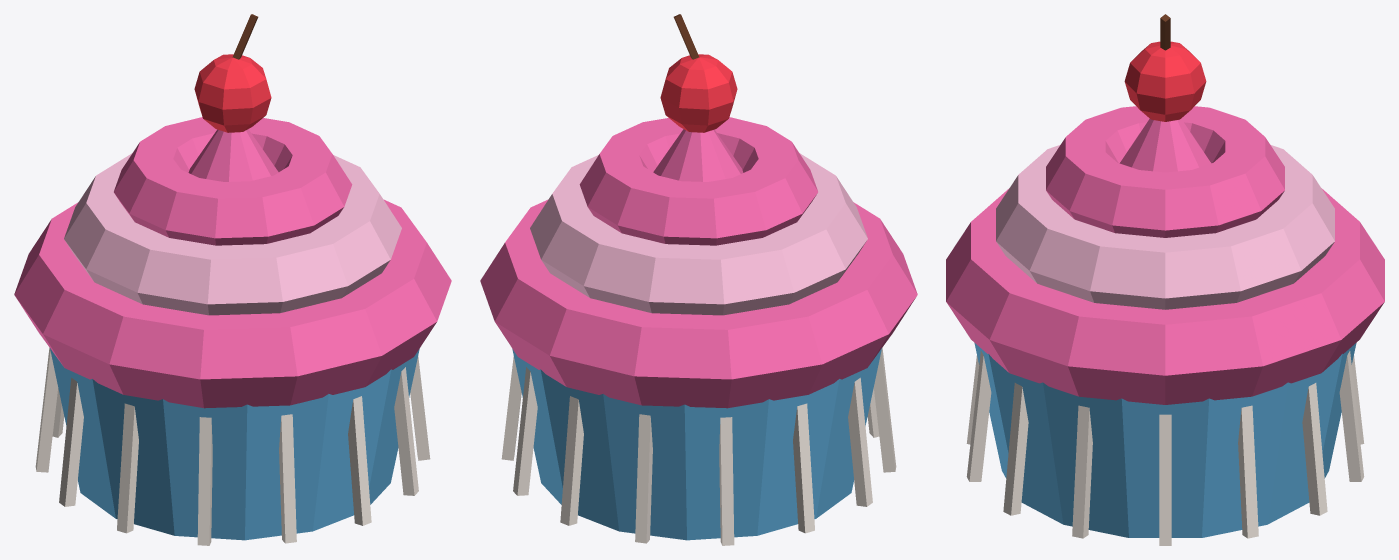
The model's file is Cupcake.fbx.
3 views of the same model, side by side, from view 1: azimuth 30°, elevation 25°; view 2: azimuth 150°, elevation 25°; view 3: azimuth 270°, elevation 25° (orthographic). The views are drawn at different scales.
Visible parts, largest first — view 1: Cupcake; view 2: Cupcake; view 3: Cupcake.
Boxes of the visible parts, x1,y1,x2,y2 form: Cupcake: (14, 14, 451, 545); Cupcake: (480, 14, 917, 545); Cupcake: (946, 14, 1384, 545).
Bounding box in the file's own units: 440 × 502 × 429.
Materials: 1 (1 with a texture image).
